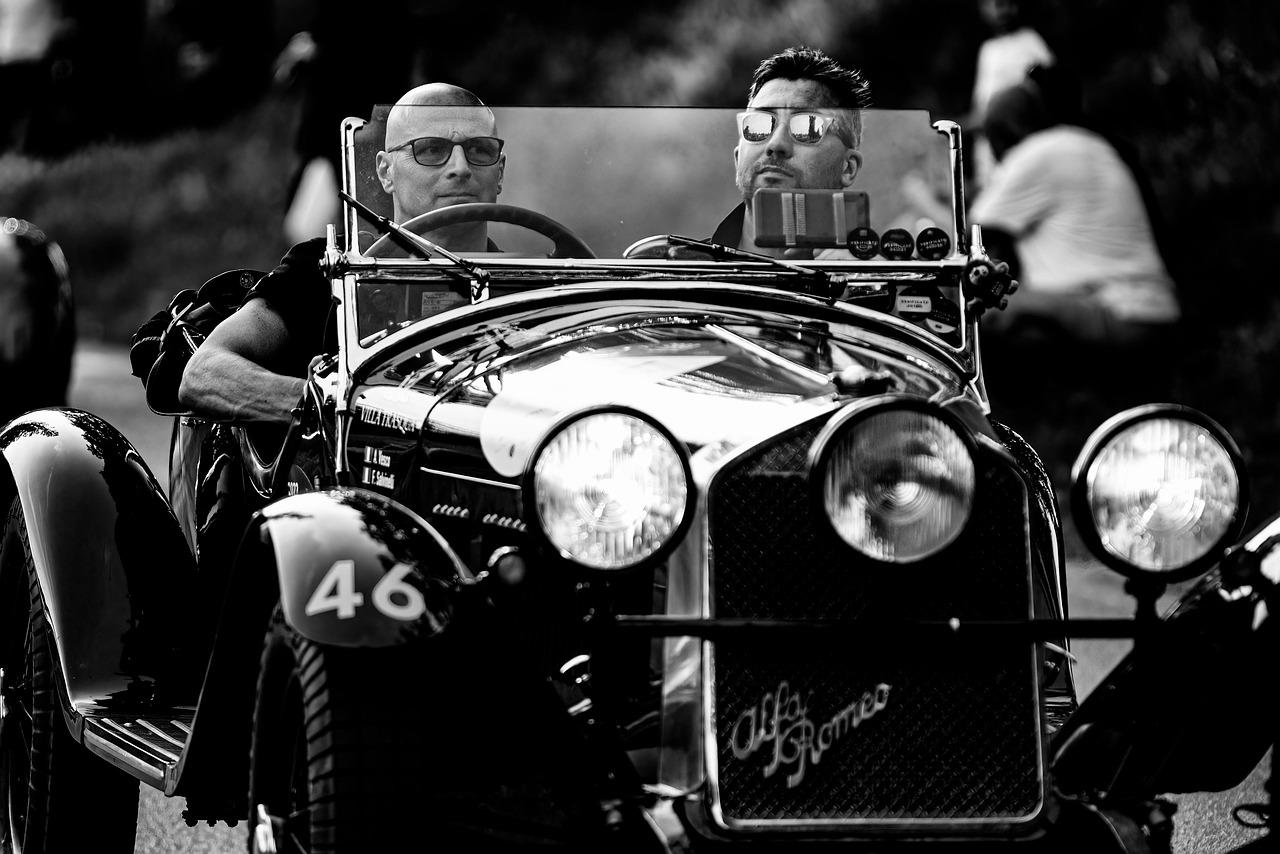Non_Gorille: (90, 24, 1225, 767)
